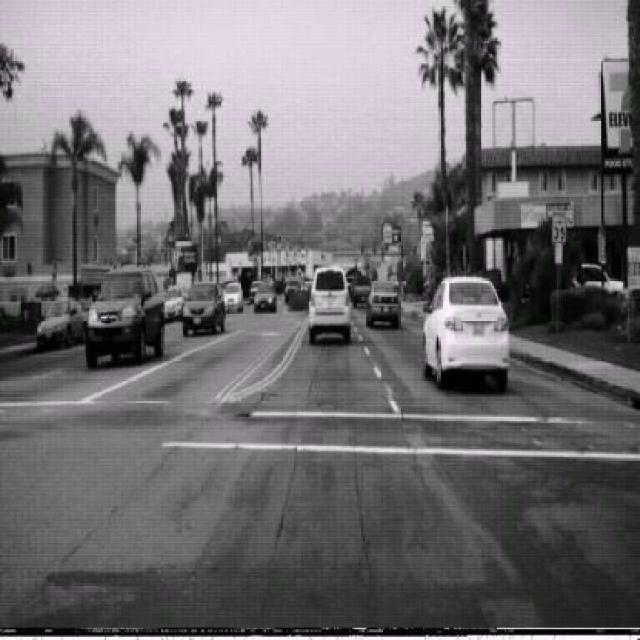speedLimit35: (552, 208, 566, 242)
